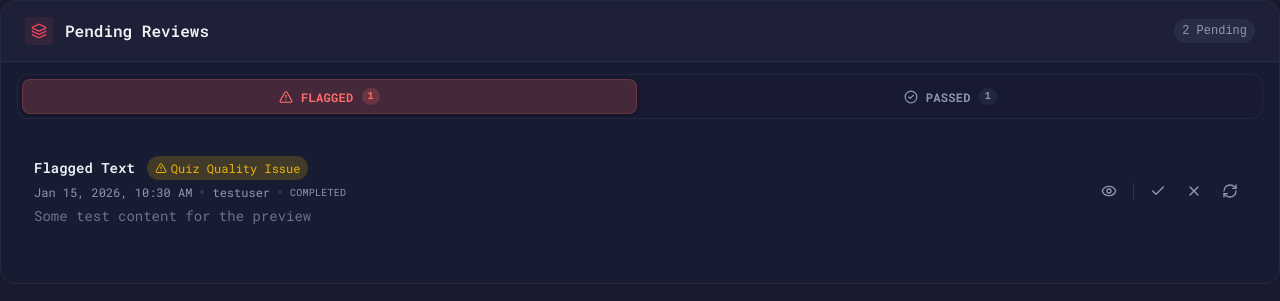
Scenario: ApprovalsList › tab switching › should switch back to flagged tab
Step 1. Click the button "Passed 1" → (950, 97), box [643,79,1258,114]
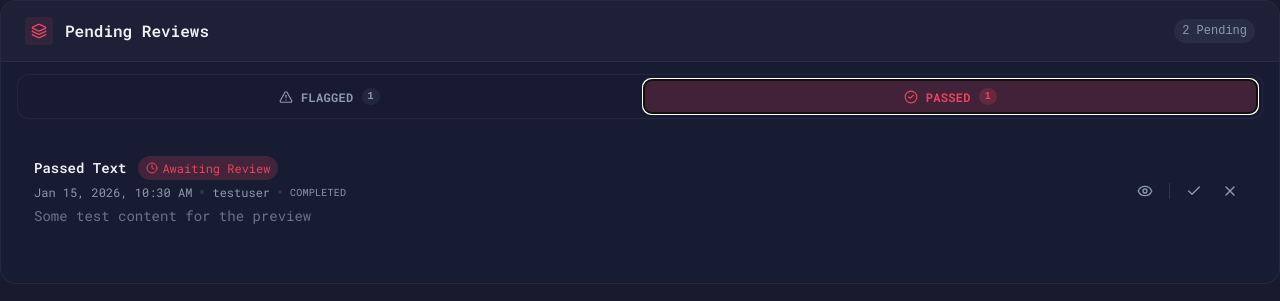
Step 2. Click the button "Flagged 1" → (330, 97), box [22,79,637,114]
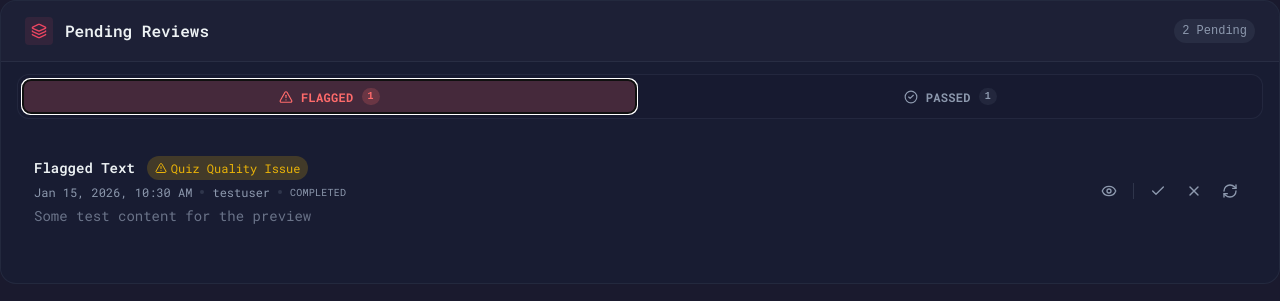
Expected: the heading "Flagged Text" is shown, [34,158,135,178]
Expected: the heading "Passed Text" is gone
